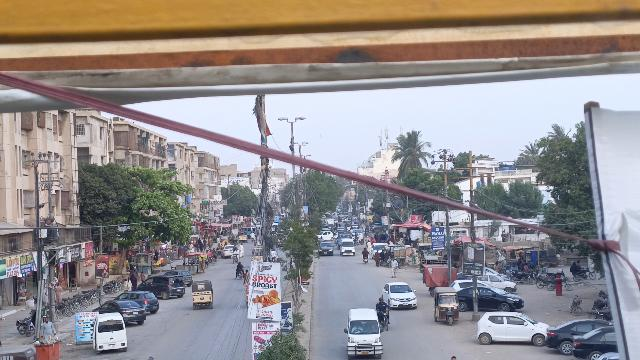Bike: (568, 293, 583, 316), (379, 310, 391, 330), (235, 271, 243, 282)
Car: (476, 309, 549, 347), (456, 285, 525, 312), (547, 318, 607, 349), (572, 325, 617, 358), (93, 299, 146, 325), (382, 280, 419, 312), (139, 274, 186, 298), (116, 289, 160, 313), (318, 240, 335, 258)
Person: (41, 316, 57, 340), (387, 254, 400, 278), (54, 279, 65, 305), (376, 296, 390, 316), (373, 249, 382, 267), (235, 260, 246, 273)
Rickshaw: (433, 285, 460, 326), (190, 279, 217, 311)
Van: (344, 306, 383, 360), (92, 311, 129, 353), (339, 238, 357, 259)
